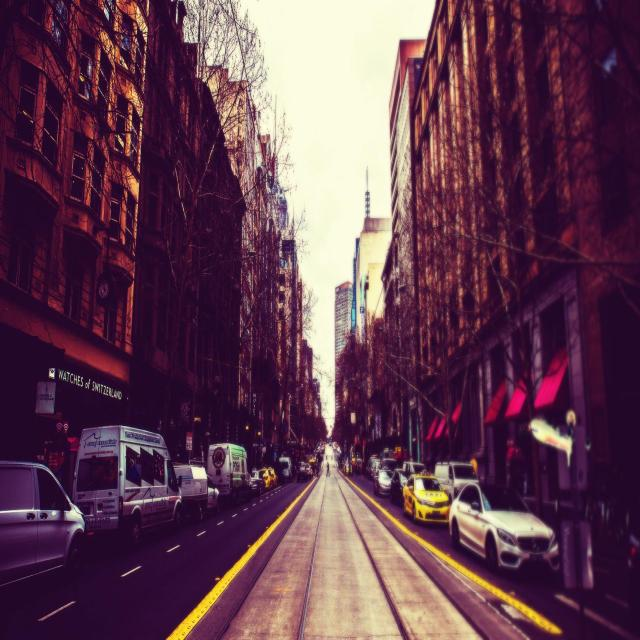airplane: (529, 417, 572, 464)
